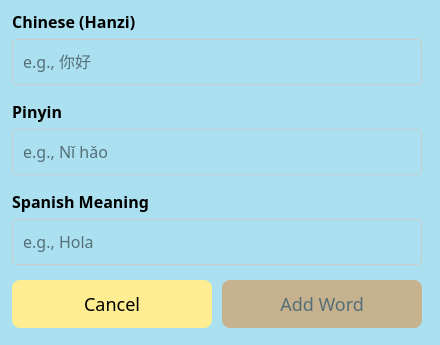
Test: AddVocabularyForm Component › enables submit button when required fields are filled
The width and height of the screenshot is (440, 345).
Type "你好" into the field with placeholder "e.g., 你好".
click(217, 62); type("你好")  # box top-left (12, 39), bottom-right (422, 85)
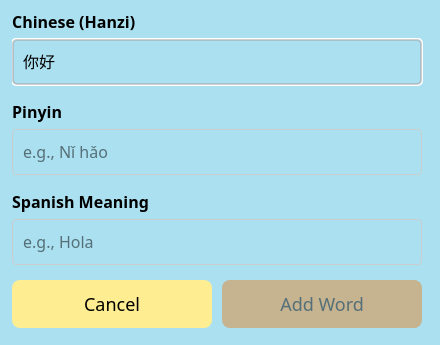
Type "Hola" into the field with placeholder "e.g., Hola".
click(217, 242); type("Hola")  # box top-left (12, 219), bottom-right (422, 265)
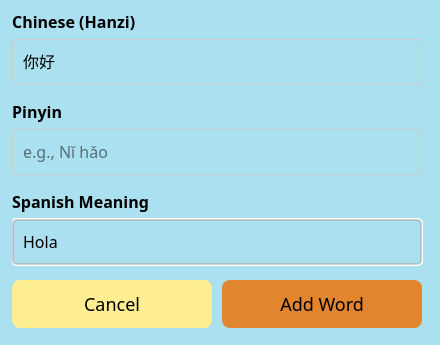
Result: the button "Add Word" is enabled at top-left (222, 280), bottom-right (422, 328)
